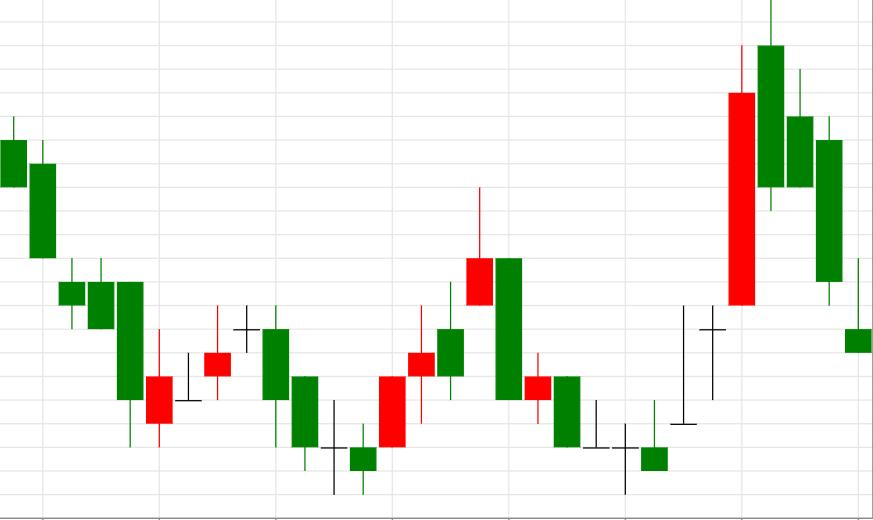shooting_star_fall: (350, 188, 494, 495)
